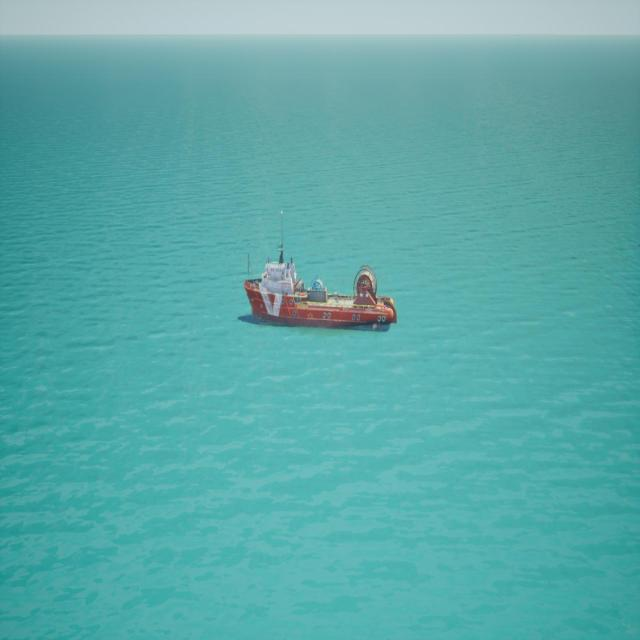tug boat: (241, 213, 398, 335)
